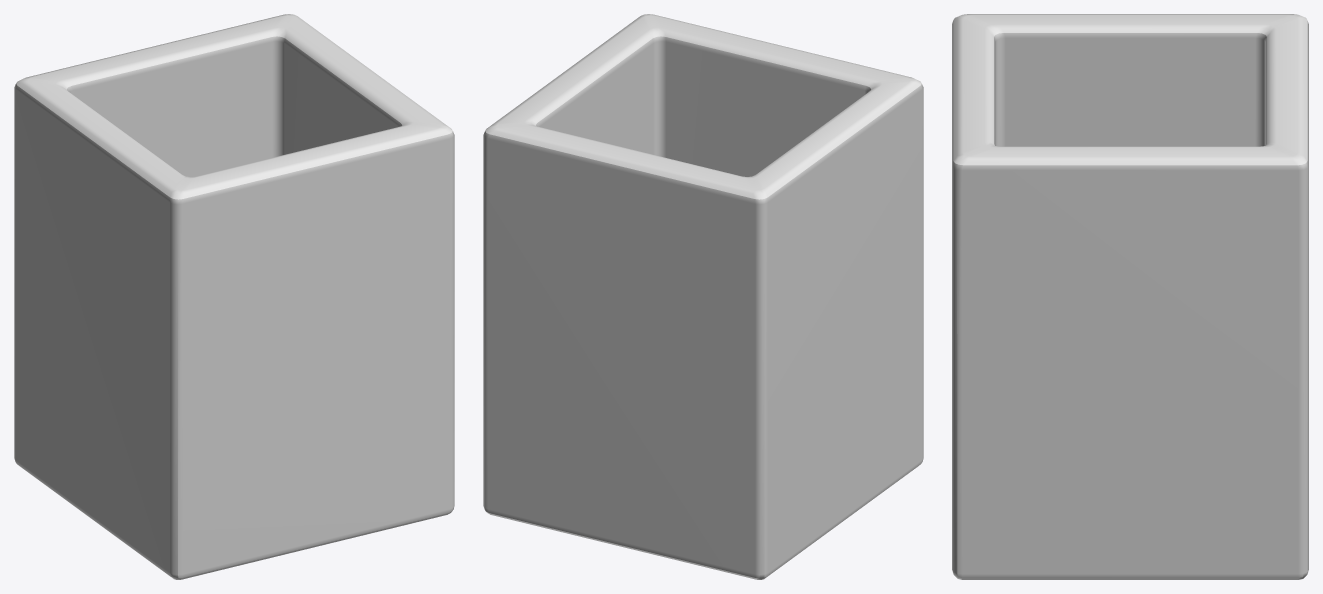
Rendered from Aato_PenPot.fbx.
The picture shows the model from 3 angles, left to right: view 1: azimuth 30°, elevation 25°; view 2: azimuth 150°, elevation 25°; view 3: azimuth 270°, elevation 25°; orthographic projection. The views are drawn at different scales.
Visible parts, largest first — view 1: pCube9; view 2: pCube9; view 3: pCube9.
Part boxes in pixels (bbox=[...]): pCube9: bbox=[14, 14, 454, 579]; pCube9: bbox=[483, 14, 923, 579]; pCube9: bbox=[952, 14, 1308, 579].
Bounding box in the file's own units: 0.00417 × 0.00545 × 0.00417.
1 material, 1 textured.
